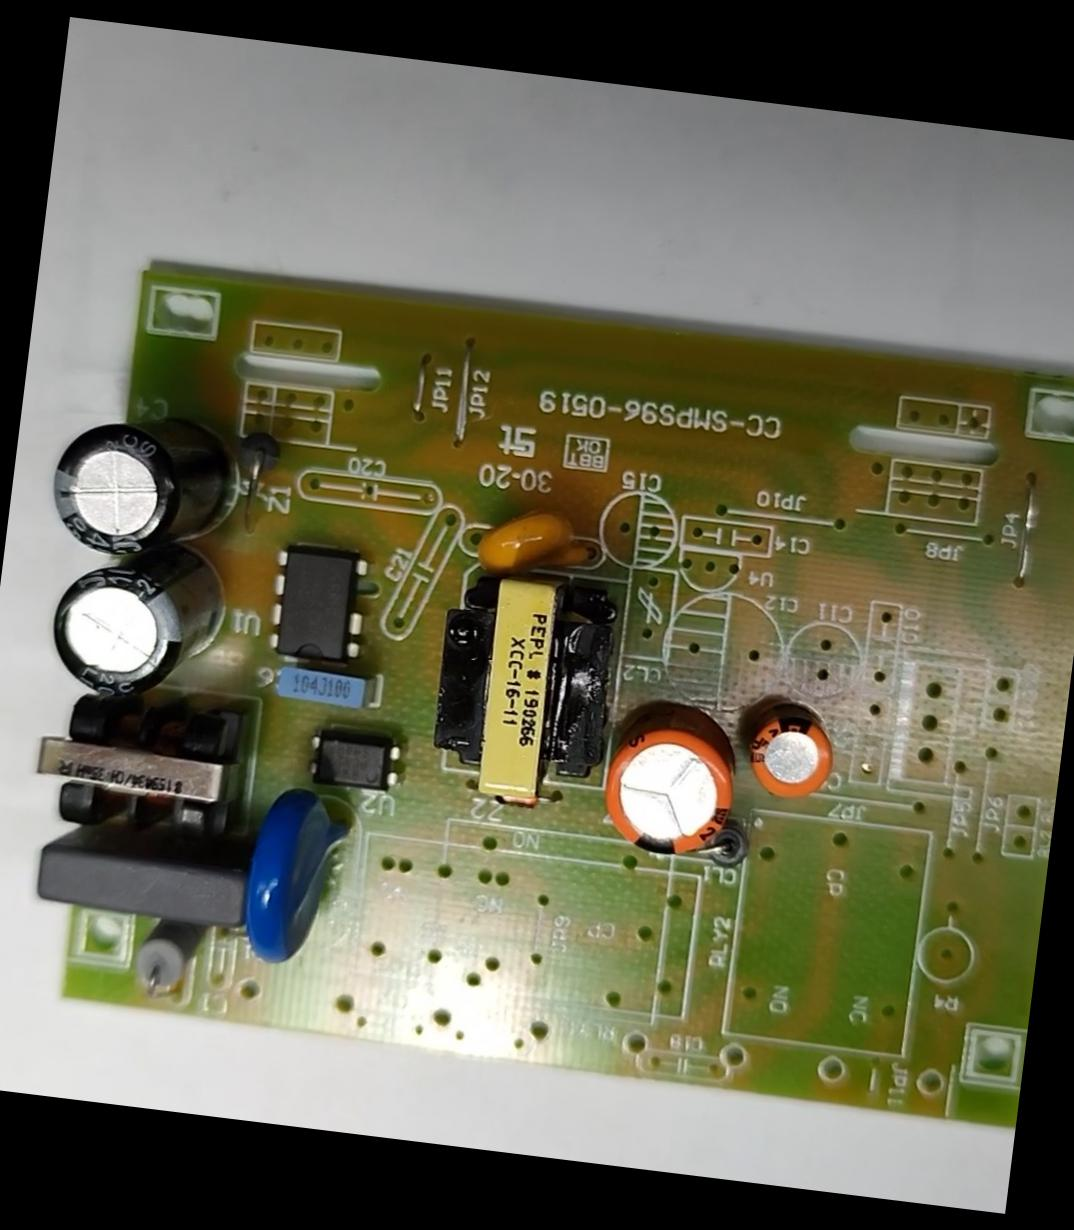Cap1: (591, 715, 749, 866)
Cap2: (742, 706, 843, 805)
Cap3: (38, 543, 235, 716)
Cap4: (41, 403, 255, 567)
MOSFET: (256, 539, 374, 669)
Mov: (230, 778, 360, 977)
Resistor: (116, 910, 220, 1011)
Transformer: (420, 565, 629, 816), (23, 688, 267, 853)
